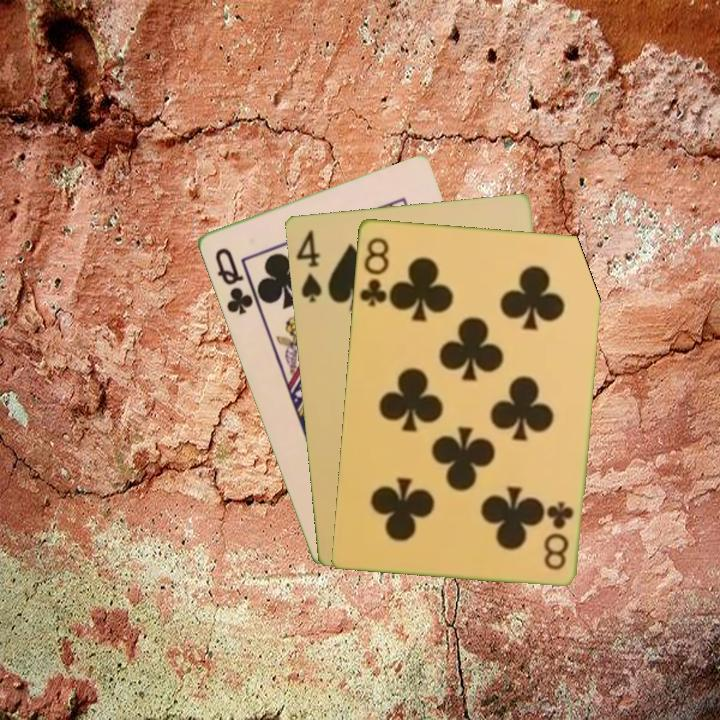4s: (292, 226, 324, 305)
8c: (540, 497, 576, 573), (355, 234, 391, 309)
Qc: (211, 244, 256, 318)
